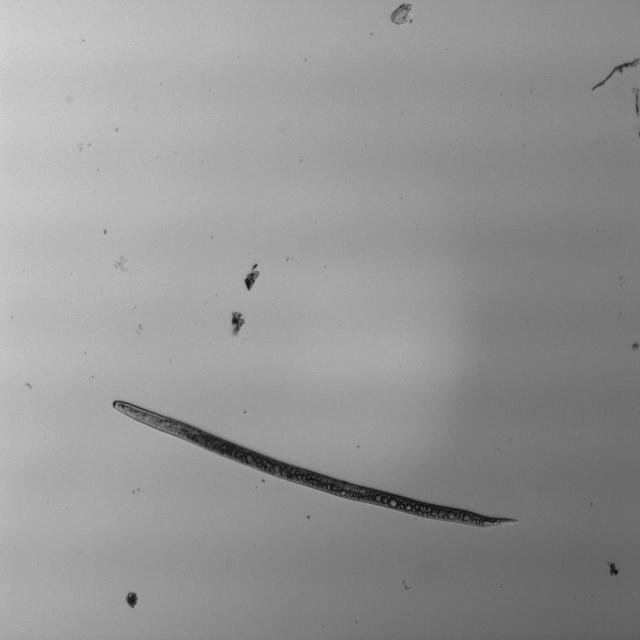Radopholus: (103, 390, 518, 528)
